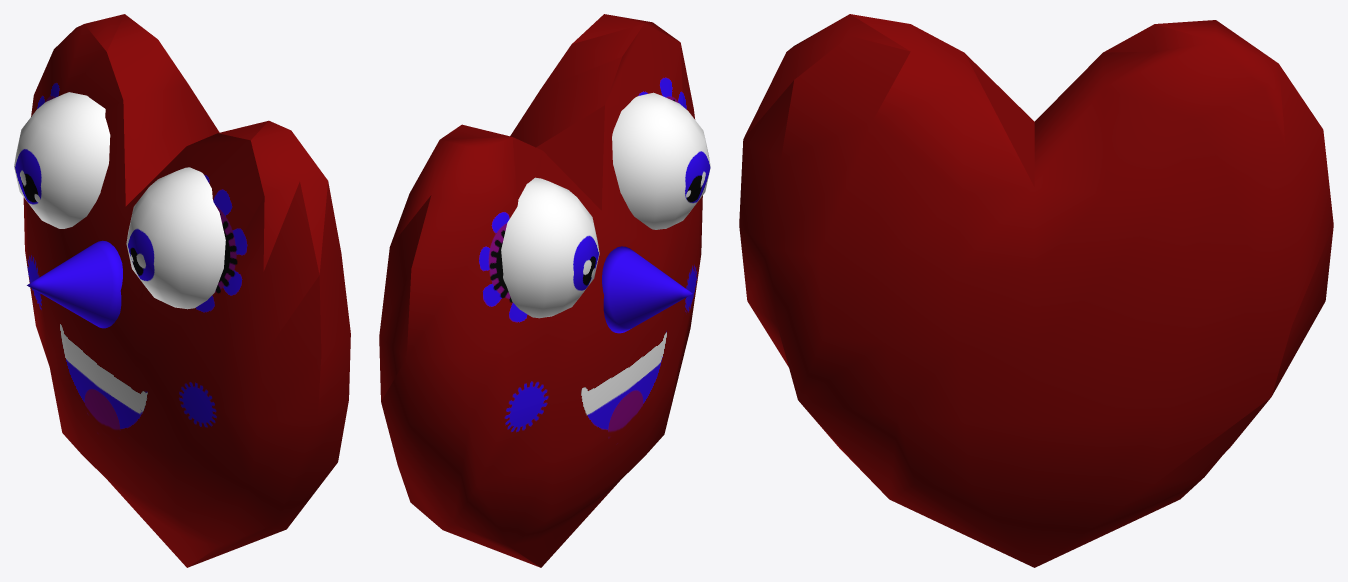
Rendered from Albumin.fbx.
3 views of the same model, side by side, from view 1: azimuth 30°, elevation 25°; view 2: azimuth 150°, elevation 25°; view 3: azimuth 270°, elevation 25° (orthographic). The views are drawn at different scales.
Visible parts, largest first — view 1: Albumin; view 2: Albumin; view 3: Albumin.
Boxes of the visible parts, bbox=[...] form: Albumin: bbox=[14, 14, 350, 567]; Albumin: bbox=[379, 14, 710, 567]; Albumin: bbox=[739, 14, 1333, 567].
Size of the model in its own units: 96.9 by 185 by 184.
